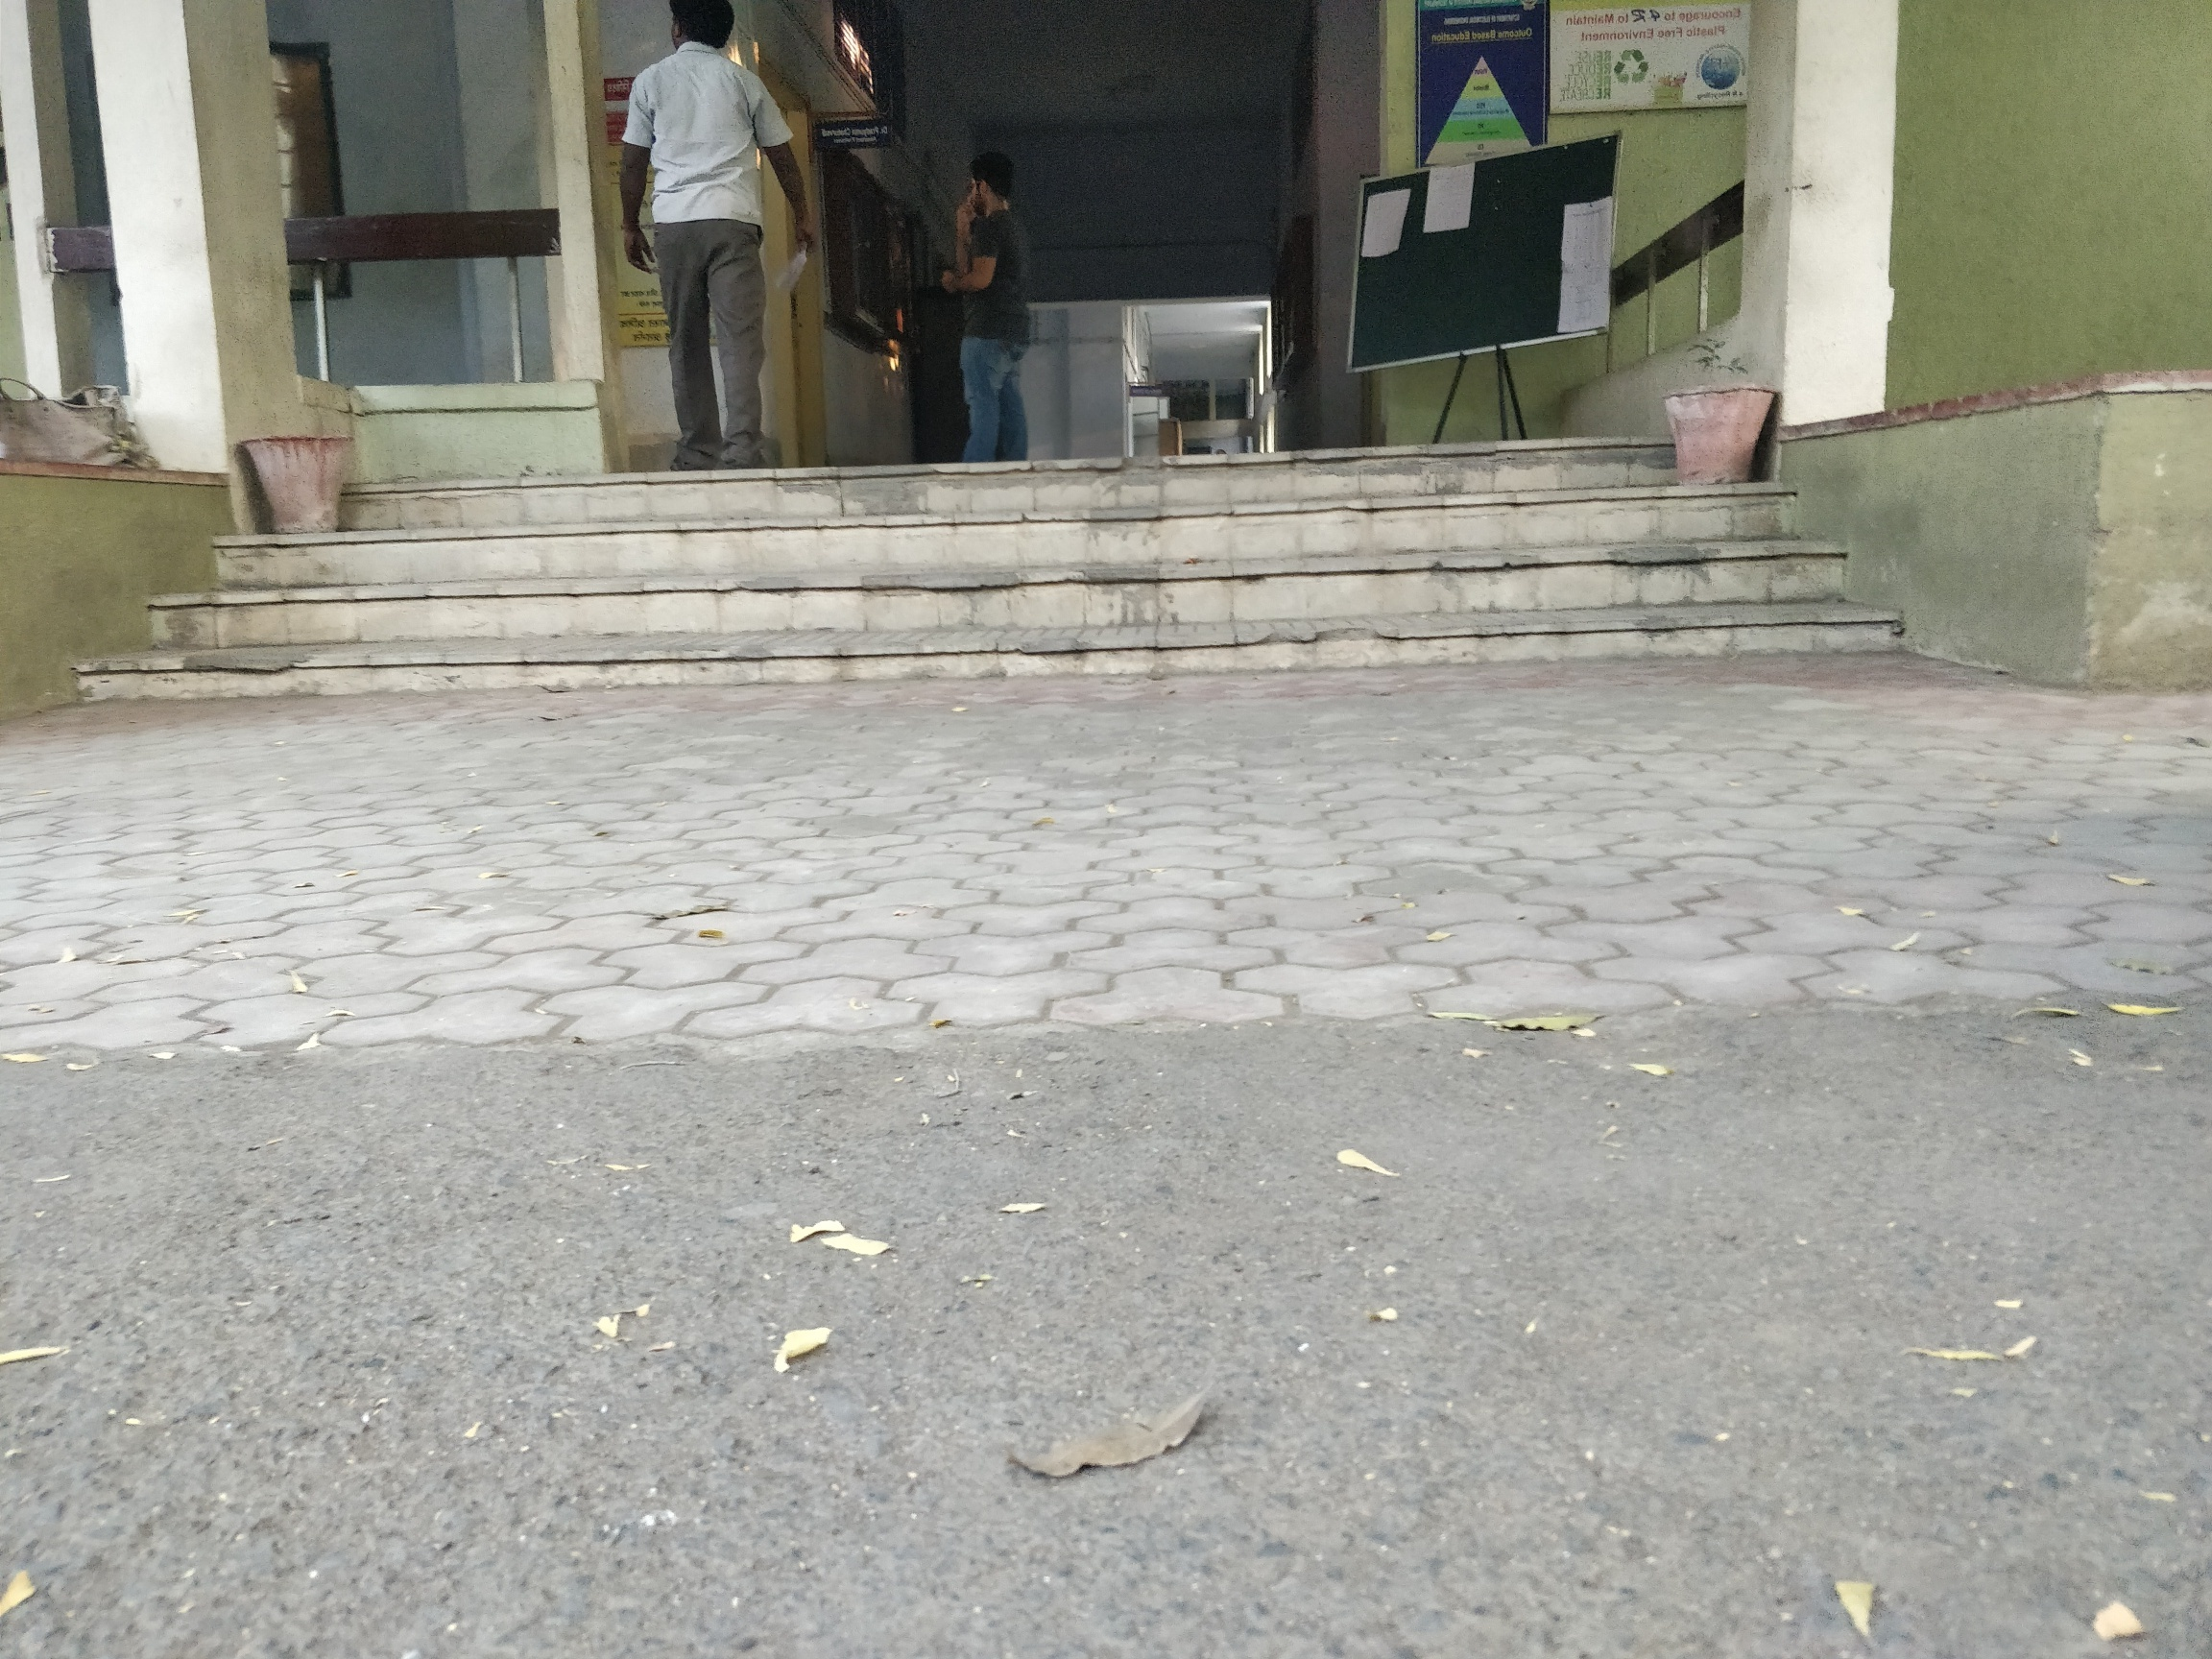stairs_up: (160, 467, 1862, 671)
